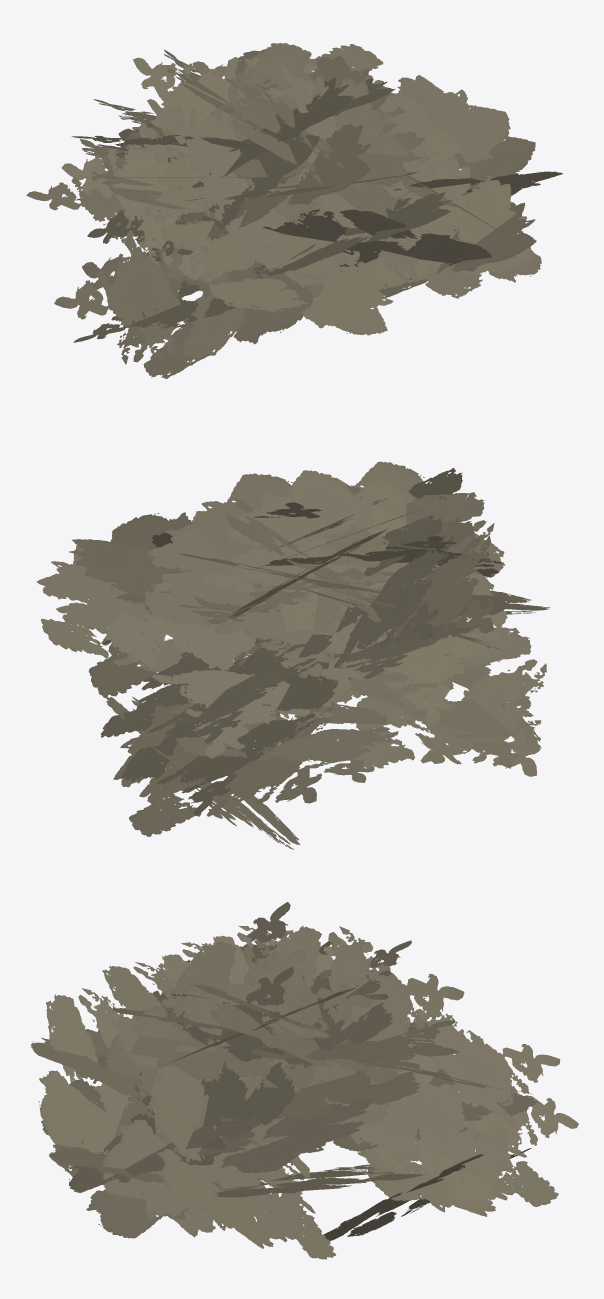
The model's file is bush.fbx.
The picture shows the model from 3 angles, top to bottom: view 1: azimuth 30°, elevation 25°; view 2: azimuth 150°, elevation 25°; view 3: azimuth 270°, elevation 25°; orthographic projection. The views are drawn at different scales.
Parts seen in each view (by area): view 1: Без имени-1.083; view 2: Без имени-1.083; view 3: Без имени-1.083.
Part boxes in pixels (x1,y1,x2,y2): Без имени-1.083: [26, 43, 562, 378]; Без имени-1.083: [36, 461, 549, 849]; Без имени-1.083: [30, 902, 578, 1259].
Size of the model in its own units: 527 by 330 by 536.
